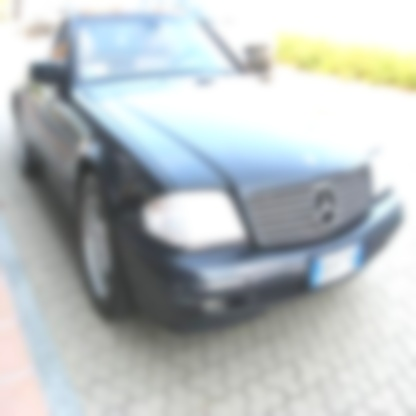Vehicle: (12, 7, 403, 333)
